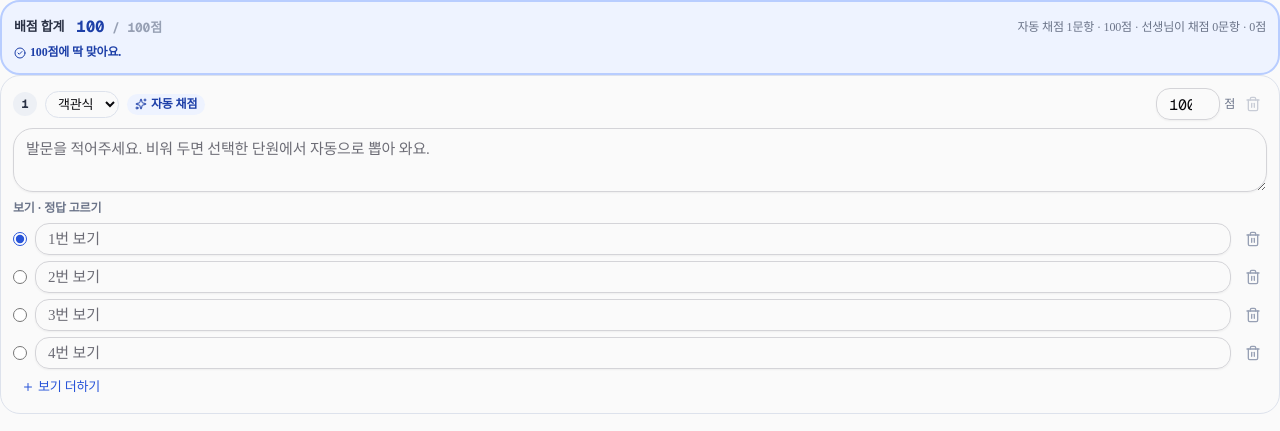
Scenario: QuestionListEditor › 배점을 고치면 상단 합계가 실시간으로 따라오고 모자란 만큼 알린다
The width and height of the screenshot is (1280, 431).
Check: the element with test id "points-tally" shows "100점에 딱 맞아요", box [30,45,121,59]
Step 1. Replace the text in the number field with test id "question-points-0" with "80" → (1188, 104), box [1156,88,1220,120]
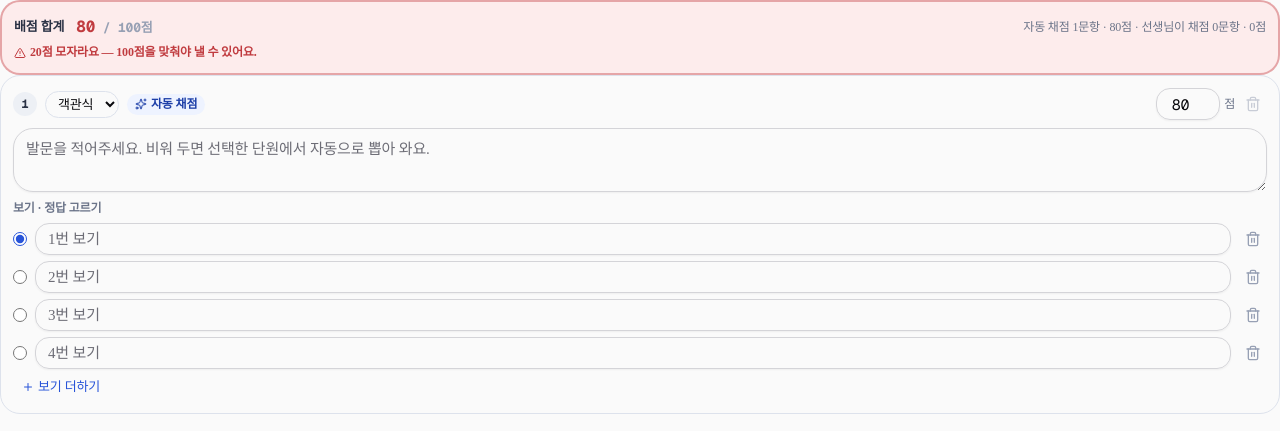
Check: the element with test id "points-tally" shows "20점 모자라요", box [30,45,256,59]
